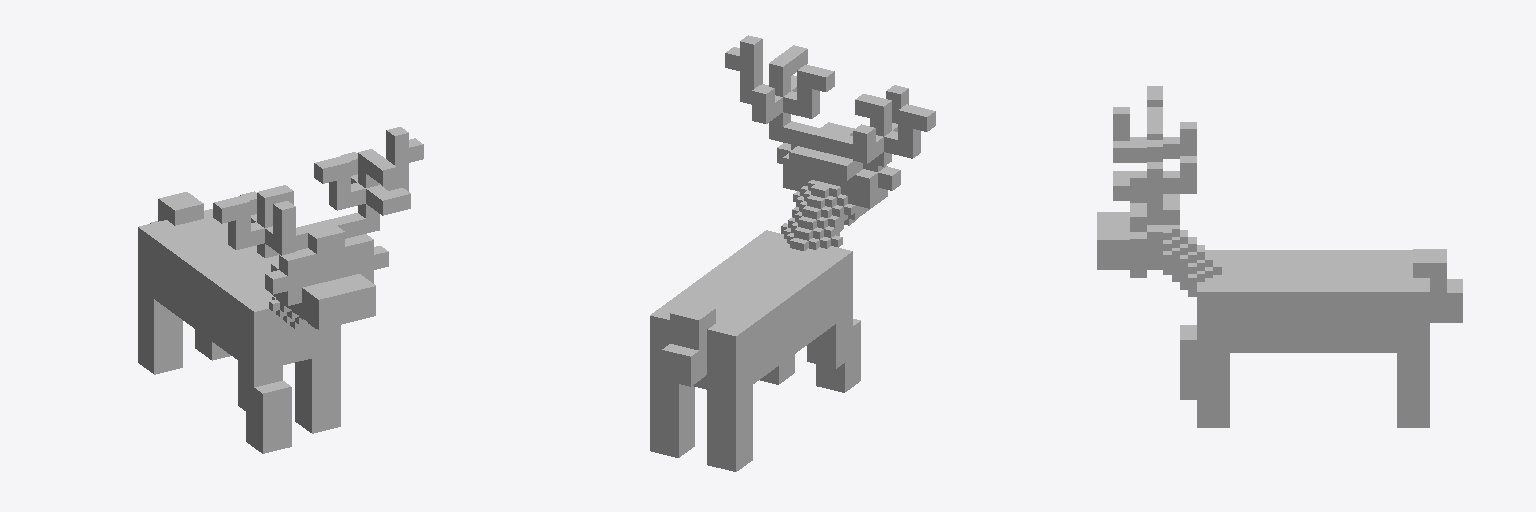
Rendered from Deer.obj.
3 renders of one model, left to right at view 1: azimuth 30°, elevation 25°; view 2: azimuth 150°, elevation 25°; view 3: azimuth 270°, elevation 25°, orthographic.
Visible parts, largest first — view 1: object 1; view 2: object 1; view 3: object 1.
Part boxes in pixels (x1,y1,x2,y2): object 1: (138, 127, 423, 453); object 1: (650, 35, 935, 471); object 1: (1097, 86, 1462, 427).
Size of the model in its own units: 2.8 by 4 by 4.4.